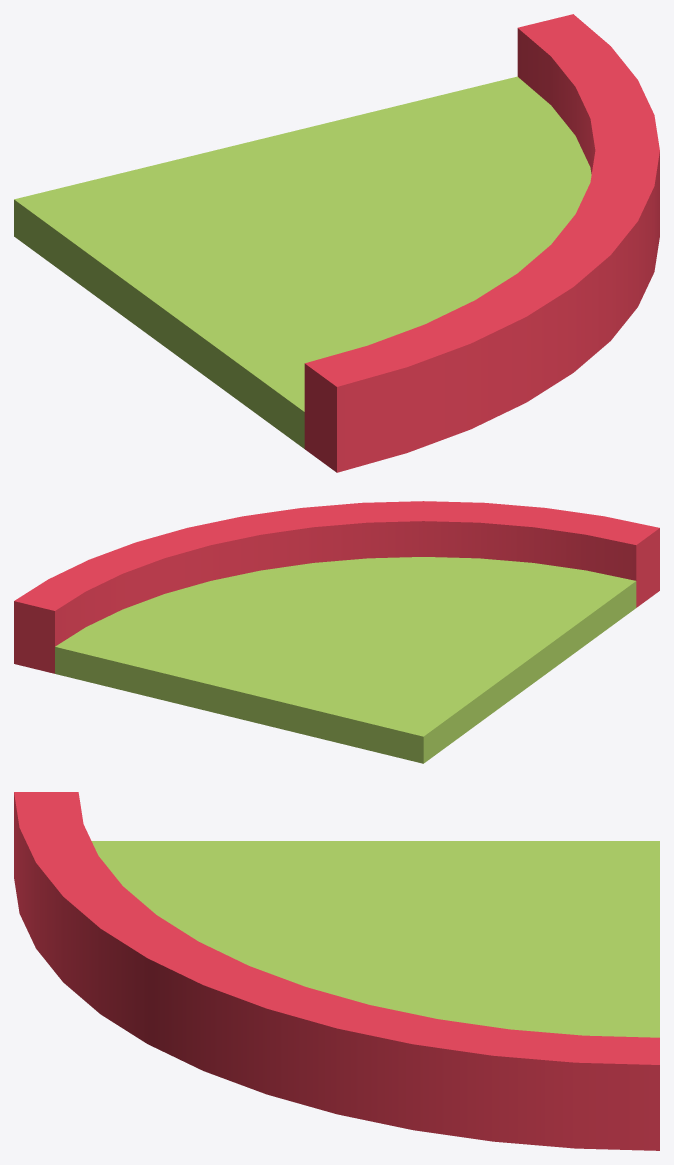
Rendered from roundCornerC.fbx.
3 renders of one model, top to bottom at view 1: azimuth 30°, elevation 25°; view 2: azimuth 150°, elevation 25°; view 3: azimuth 270°, elevation 25°, orthographic. The views are drawn at different scales.
Parts seen in each view (by area): view 1: roundCornerC; view 2: roundCornerC; view 3: roundCornerC.
Part boxes in pixels (x1=…): roundCornerC: x1=14, y1=14, x2=659, y2=472; roundCornerC: x1=14, y1=501, x2=659, y2=763; roundCornerC: x1=14, y1=792, x2=659, y2=1150.
Size of the model in its own units: 10 by 1.47 by 10.
